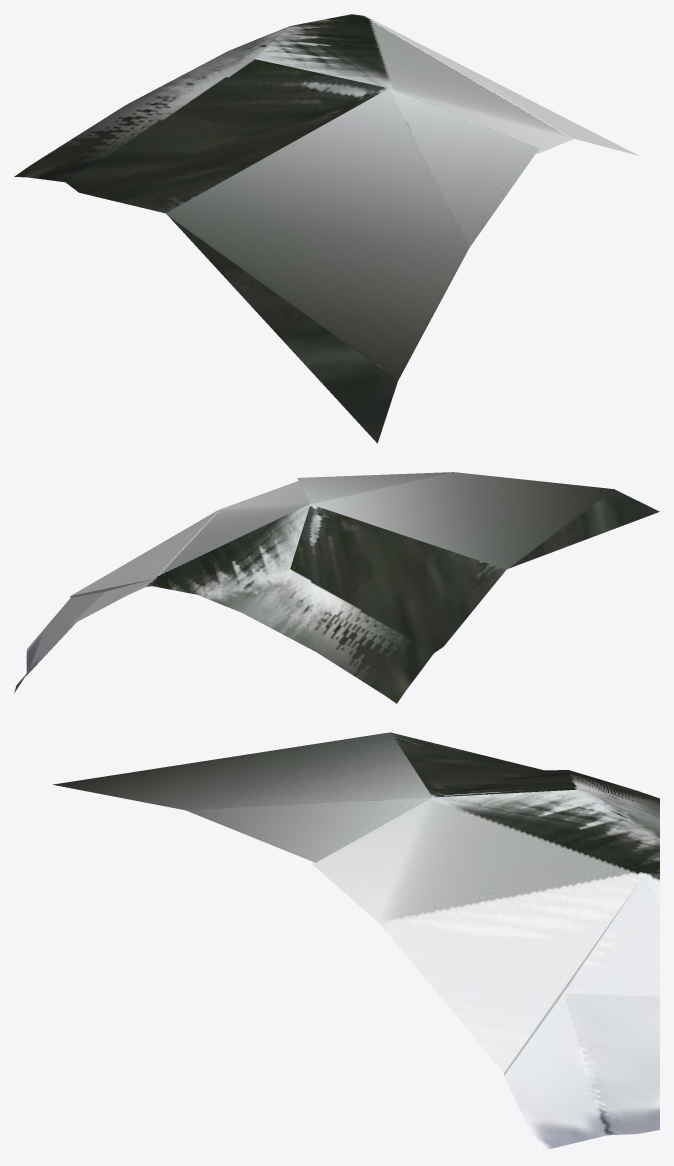
3 renders of one model, top to bottom at view 1: azimuth 30°, elevation 25°; view 2: azimuth 150°, elevation 25°; view 3: azimuth 270°, elevation 25°, orthographic. The views are drawn at different scales.
Bounding box in the file's own units: 1.35 × 0.527 × 1.47.
1 material, 1 textured.
